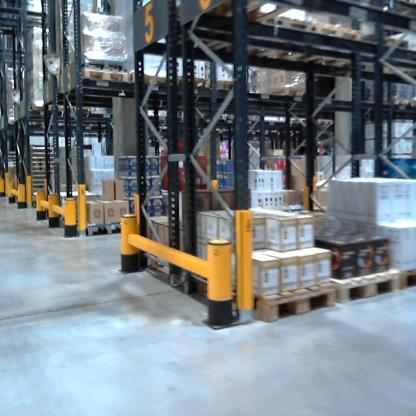pallet: (179, 259, 335, 326), (29, 99, 315, 130), (142, 239, 234, 305), (294, 14, 371, 71), (328, 259, 400, 308), (241, 16, 309, 61), (356, 27, 413, 69), (127, 61, 183, 96), (72, 217, 132, 240), (81, 68, 134, 90), (208, 79, 253, 98), (171, 73, 212, 93), (395, 256, 416, 292), (53, 102, 91, 115), (380, 97, 414, 111), (275, 86, 307, 98), (316, 116, 339, 127)
